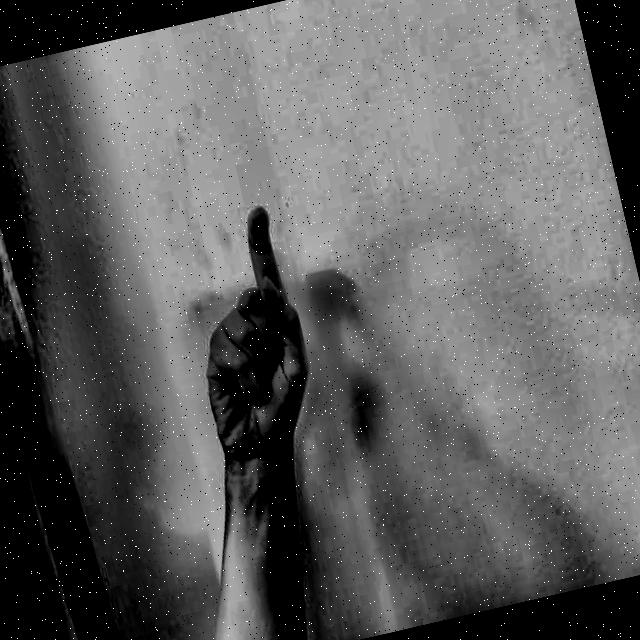E: (138, 172, 357, 481)
